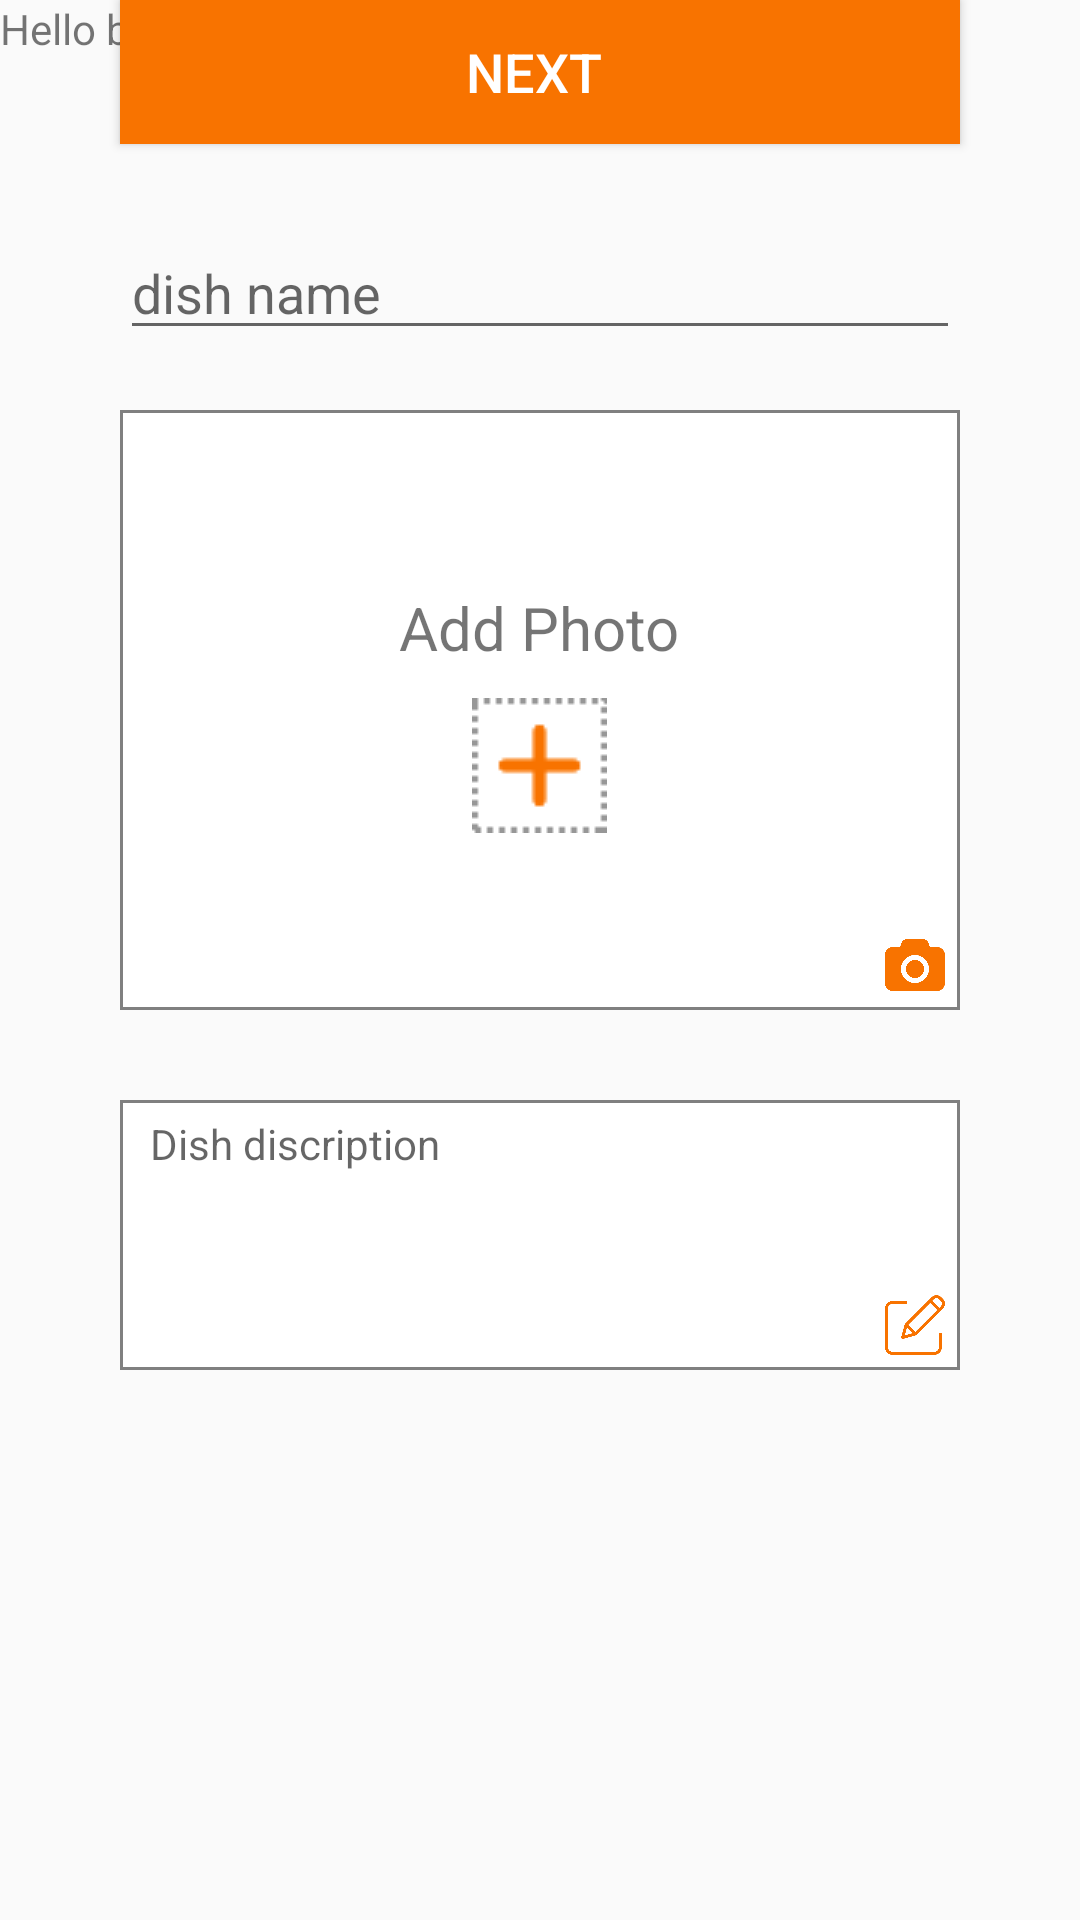

Screen size 1080px x 1920px. Icon name, then its box in pixels as bbox=(x1, y1, x2, y2):
notepad: bbox=(885, 1295, 945, 1355)
photo camera: bbox=(885, 939, 945, 991)
plus: bbox=(472, 698, 607, 833)
